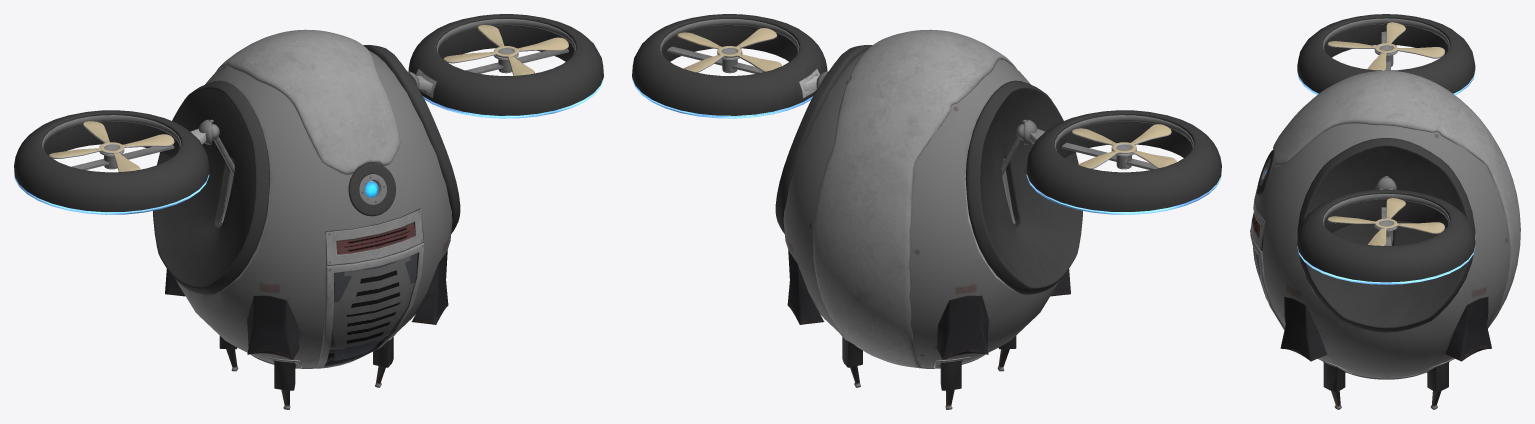
File: drone.glb
3 renders of one model, left to right at view 1: azimuth 30°, elevation 25°; view 2: azimuth 150°, elevation 25°; view 3: azimuth 270°, elevation 25°, orthographic. The views are drawn at different scales.
Visible parts, largest first — view 1: Sphere; view 2: Sphere; view 3: Sphere.
Boxes of the visible parts, x1,y1,x2,y2 form: Sphere: (14, 14, 603, 409); Sphere: (632, 14, 1221, 409); Sphere: (1250, 14, 1520, 409).
Size of the model in its own units: 3.52 by 2.03 by 1.61.
Materials: 1 (1 with a texture image).
